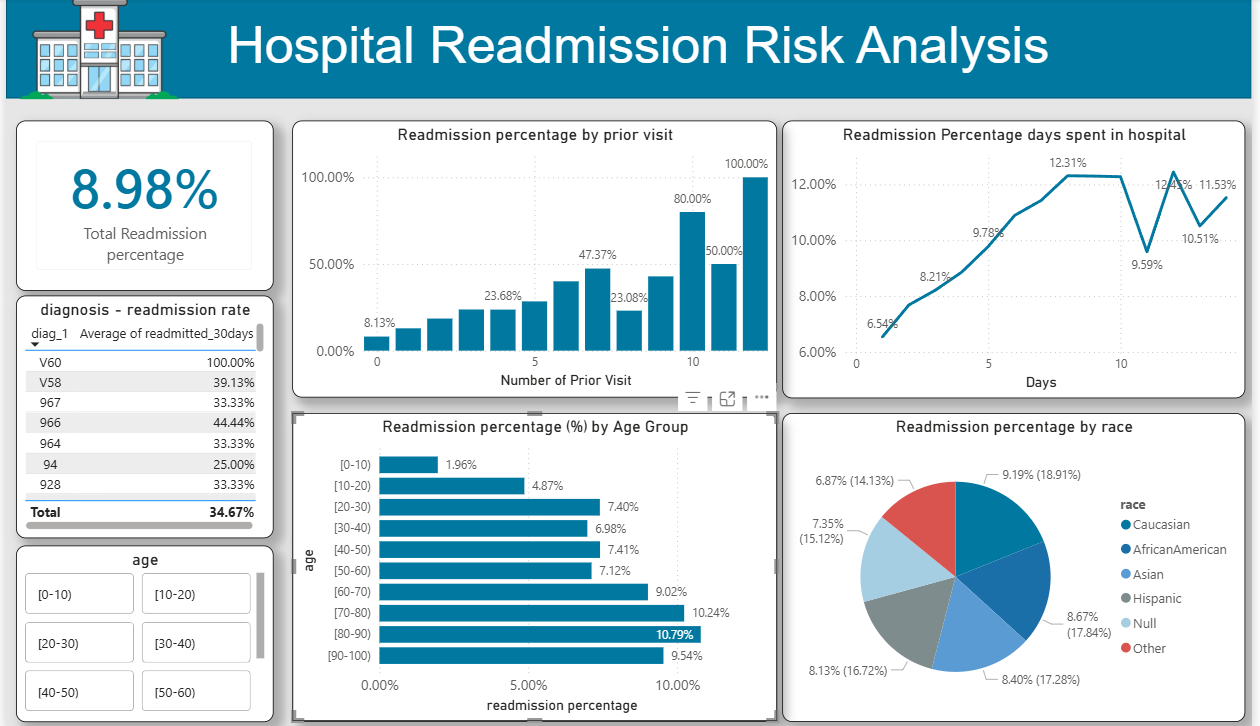

Layout of this report page (visuals, bound fields, positions):
{"tool":"powerbi","page":{"name":"Page 1","canvas":[1280,754],"ordinal":0},"visuals":[{"type":"cardVisual","fields":{"Data":["Avg(diabetic_cleaned_v1.readmitted_30days)"]},"box":[10.7,125.6,264.6,175],"z":0},{"type":"clusteredBarChart","title":"Readmission percentage (%) by Age Group","fields":{"Category":["diabetic_cleaned_v1.age"],"Y":["Avg(diabetic_cleaned_v1.readmitted_30days)"]},"box":[293.9,426.2,498.4,318],"z":1000},{"type":"lineChart","title":"Readmission Percentage days spent in hospital","fields":{"Y":["Avg(diabetic_cleaned_v1.readmitted_30days)"],"Category":["diabetic_cleaned_v1.time_in_hospital"]},"box":[797.7,125.6,475.7,285.9],"z":2000},{"type":"clusteredColumnChart","title":"Readmission percentage by prior visit","fields":{"Y":["Avg(diabetic_cleaned_v1.readmitted_30days)"],"Category":["diabetic_cleaned_v1.number_inpatient"]},"box":[293.9,125.6,498.4,284.6],"z":3000},{"type":"tableEx","title":"diagnosis - readmission rate ","fields":{"Values":["diabetic_cleaned_v1.diag_1","Avg(diabetic_cleaned_v1.readmitted_30days)"]},"box":[10.7,306,264.6,249.9],"z":4000},{"type":"pieChart","title":"Readmission percentage by race","fields":{"Category":["diabetic_cleaned_v1.race"],"Y":["Avg(diabetic_cleaned_v1.readmitted_30days)"]},"box":[797.7,426.2,475.7,318],"z":5000},{"type":"advancedSlicerVisual","fields":{"Values":["diabetic_cleaned_v1.age"]},"box":[10.7,562.5,264.6,181.7],"z":6000},{"type":"group","id":"g1","title":"Group 1","box":[0,0,1280.3,104.2],"z":7000},{"type":"shape","box":[0,0,1280.3,103.1],"z":7000,"group":"g1"},{"type":"image","box":[0,0,192.4,104.2],"z":8000},{"type":"textbox","box":[204.4,13.4,891.2,90.9],"z":8002,"group":"g1"}]}

Visuals, with their boxes in screenshot pixels (x1, y1, x2, y2), scaled from the page's 1280x754 canvas onto the 1260x726 screenshot:
cardVisual - Avg(diabetic_cleaned_v1.readmitted_30days): [11,121,271,289]
"Readmission percentage (%) by Age Group" clusteredBarChart: [289,410,780,717]
"Readmission Percentage days spent in hospital" lineChart: [785,121,1254,396]
"Readmission percentage by prior visit" clusteredColumnChart: [289,121,780,395]
"diagnosis - readmission rate " tableEx: [11,295,271,535]
"Readmission percentage by race" pieChart: [785,410,1254,717]
advancedSlicerVisual - diabetic_cleaned_v1.age: [11,542,271,717]
"Group 1" group: [0,0,1259,100]
shape: [0,0,1259,99]
image: [0,0,189,100]
textbox: [201,13,1078,100]
